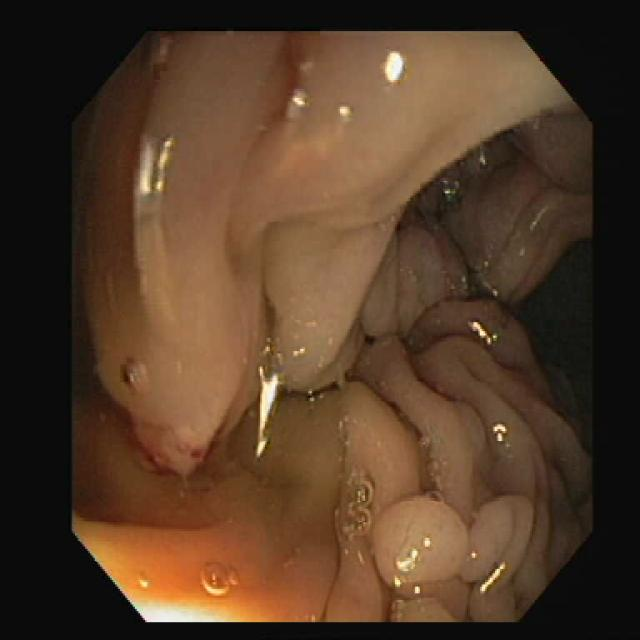tumor: (372, 493, 468, 596)
